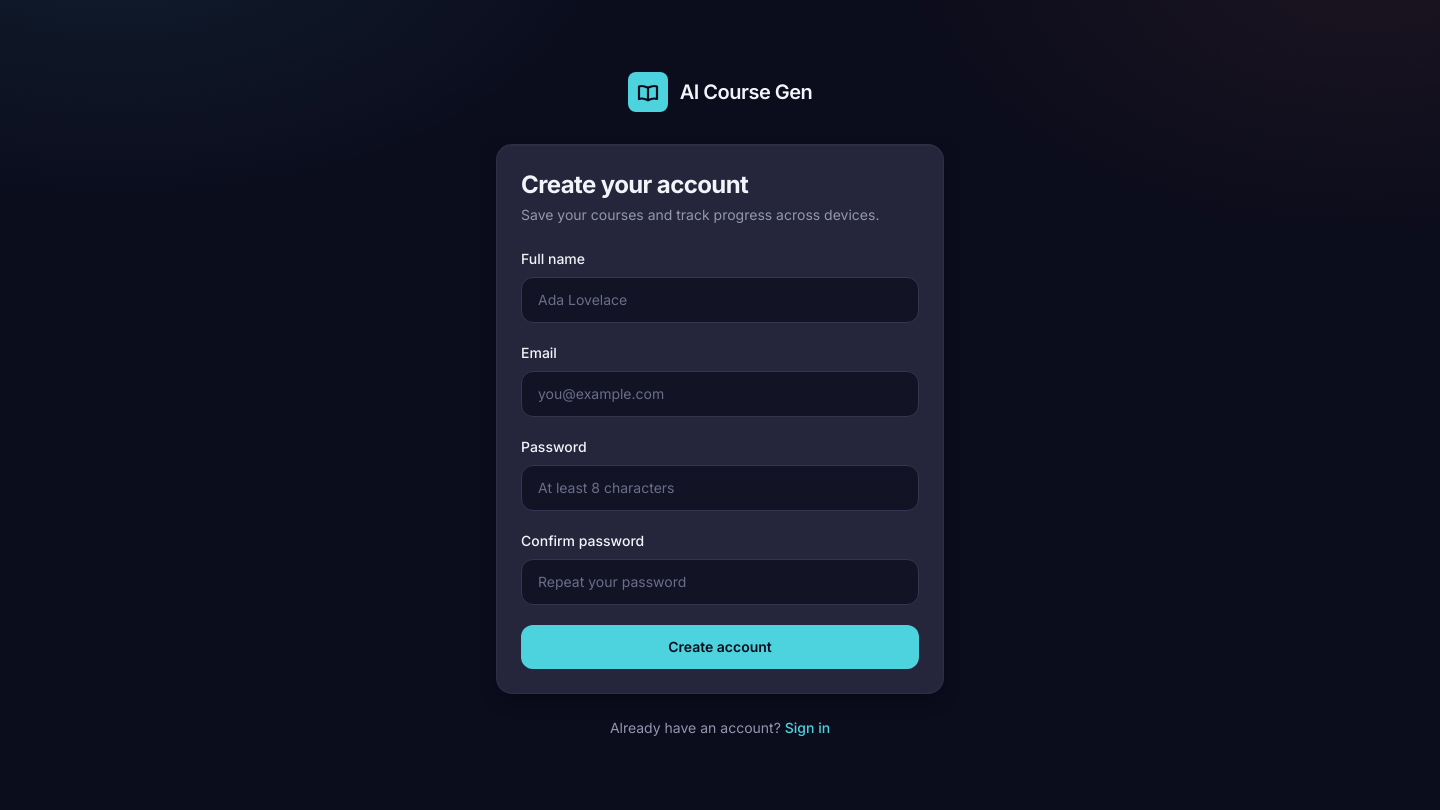
Test: register: flattens field errors from the server
This screenshot has width=1440, height=810.
In the field labelled "Full name": coordinates (720, 300) top-left (521, 277), bottom-right (919, 323), type "Ada"
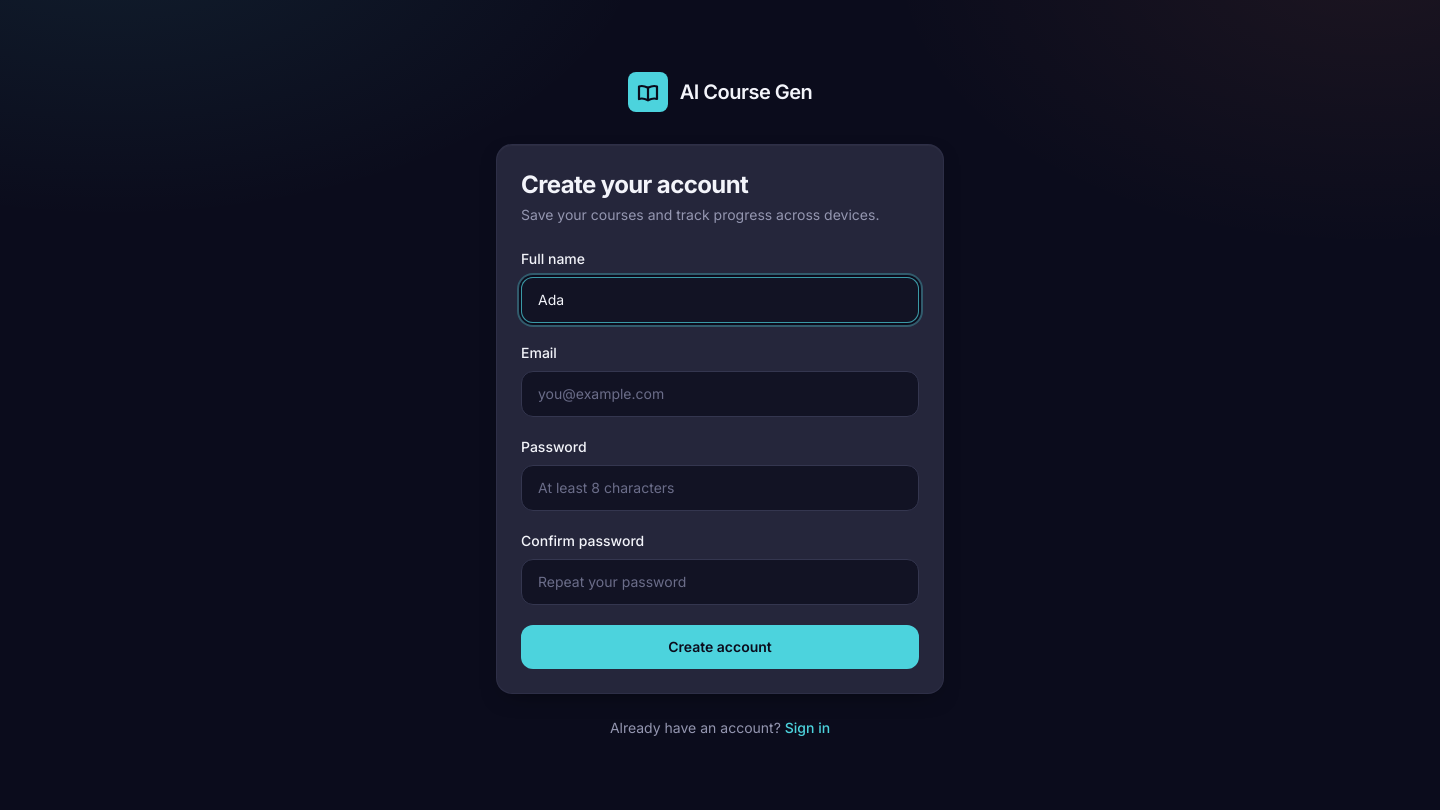
In the field labelled "Email": coordinates (720, 394) top-left (521, 371), bottom-right (919, 417), type "a@b.com"
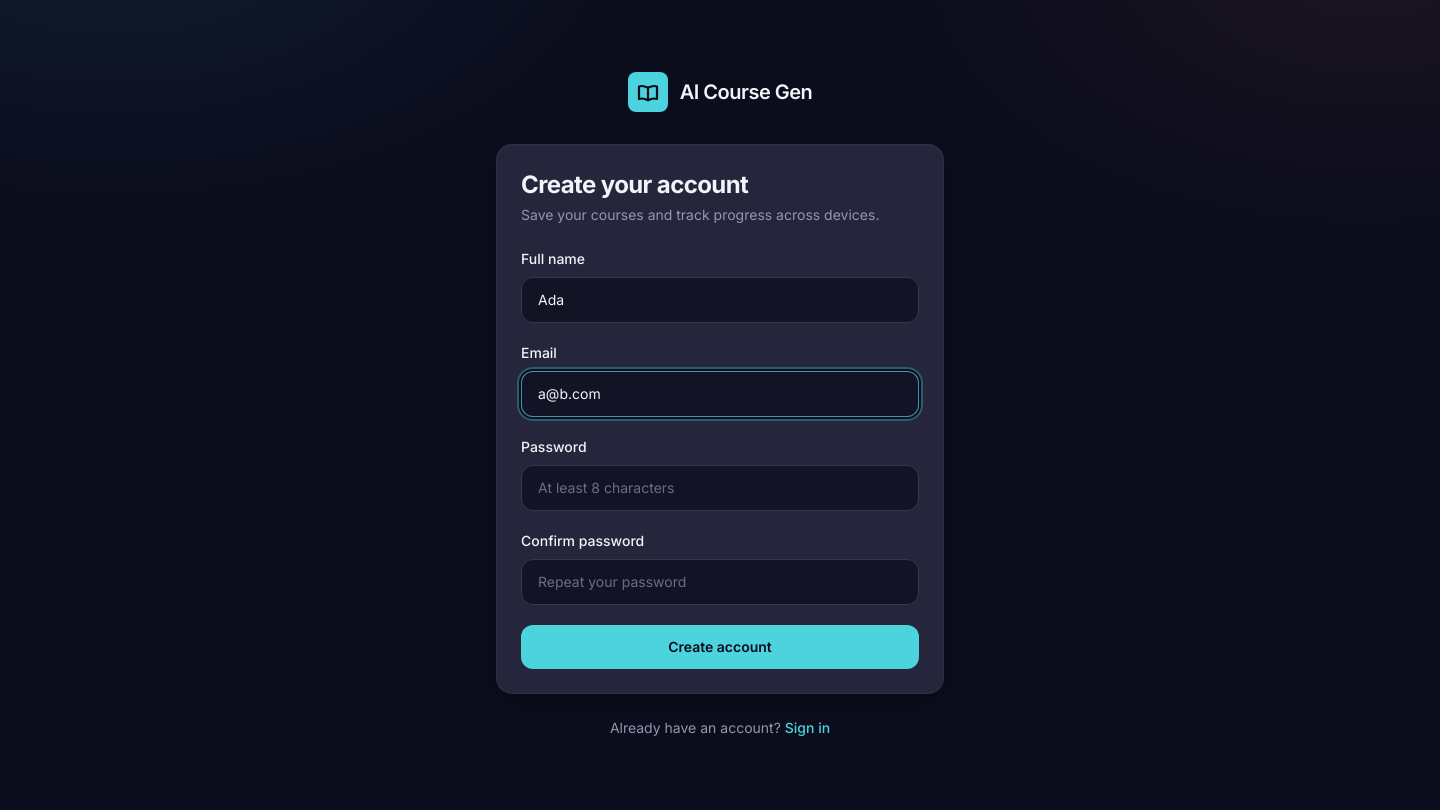
In the password field labelled "Password": coordinates (720, 488) top-left (521, 465), bottom-right (919, 511), type "password-one"
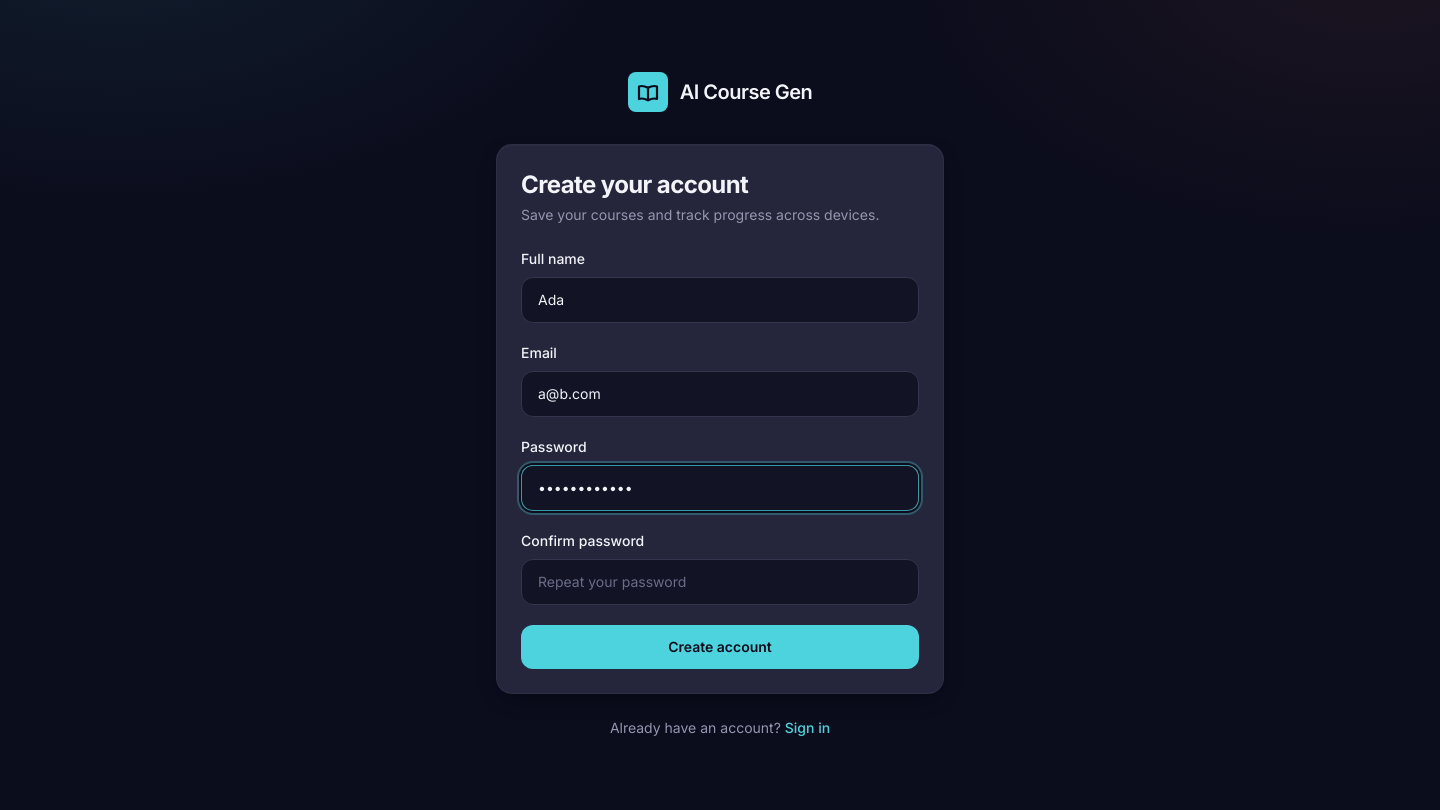
In the password field labelled "Confirm password": coordinates (720, 582) top-left (521, 559), bottom-right (919, 605), type "password-one"
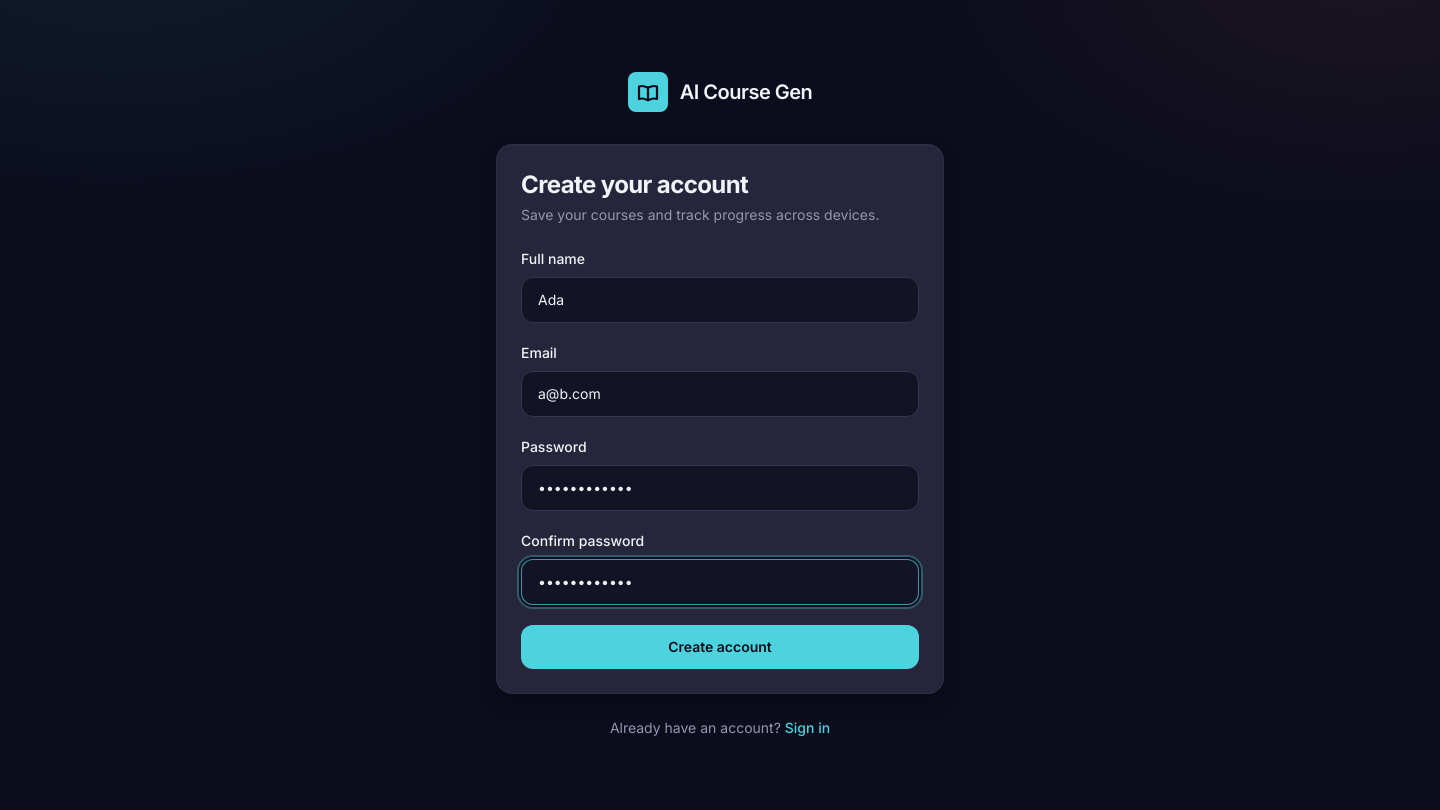
Click the button "Create account": coordinates (720, 647) top-left (521, 625), bottom-right (919, 669)
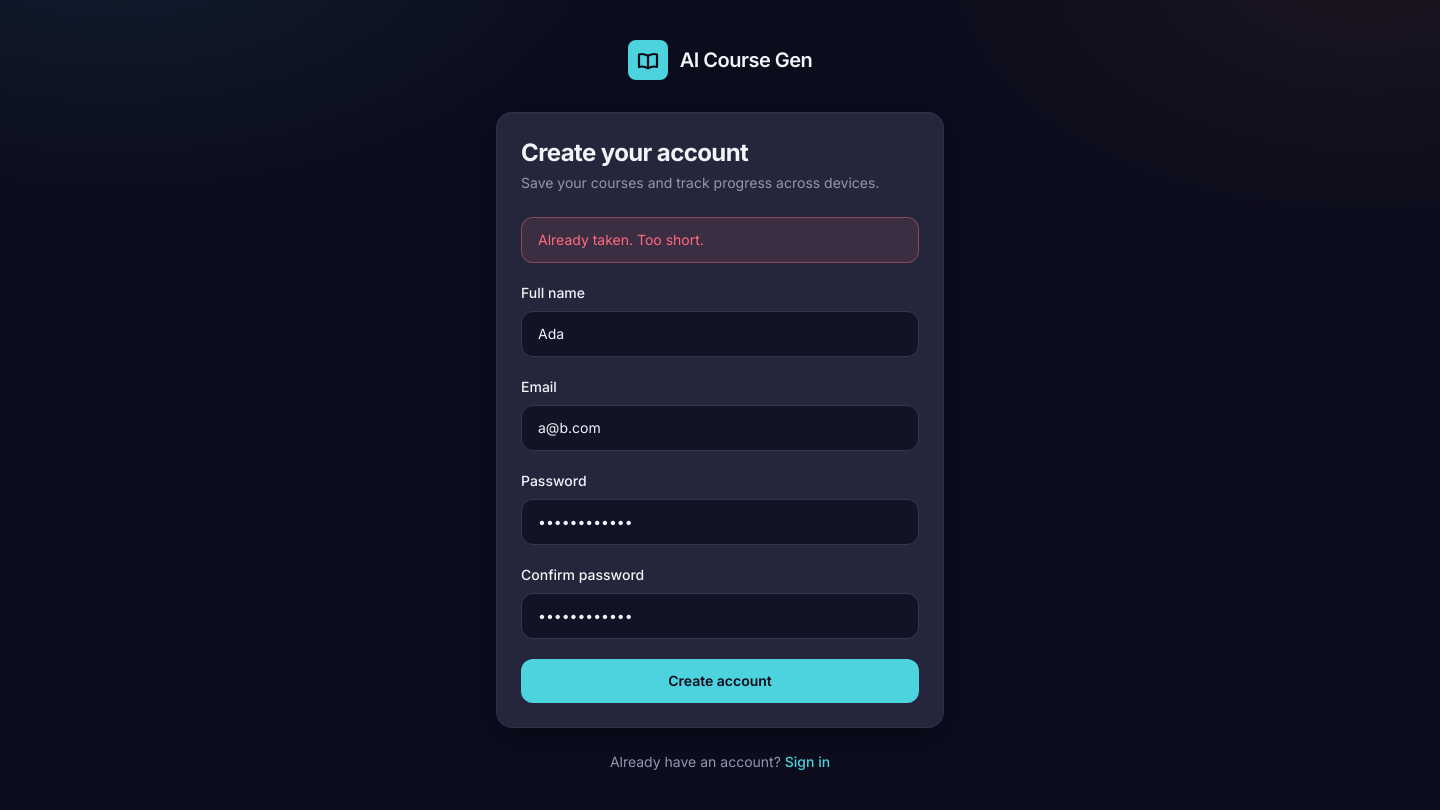
Expected: the message reads "Already taken. Too short.", top-left (538, 231), bottom-right (704, 248)
